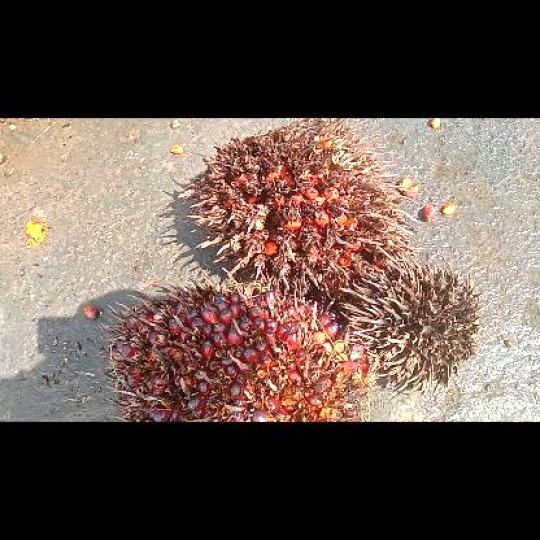masak: (101, 268, 374, 420)
terlalu masak: (179, 118, 416, 303)
